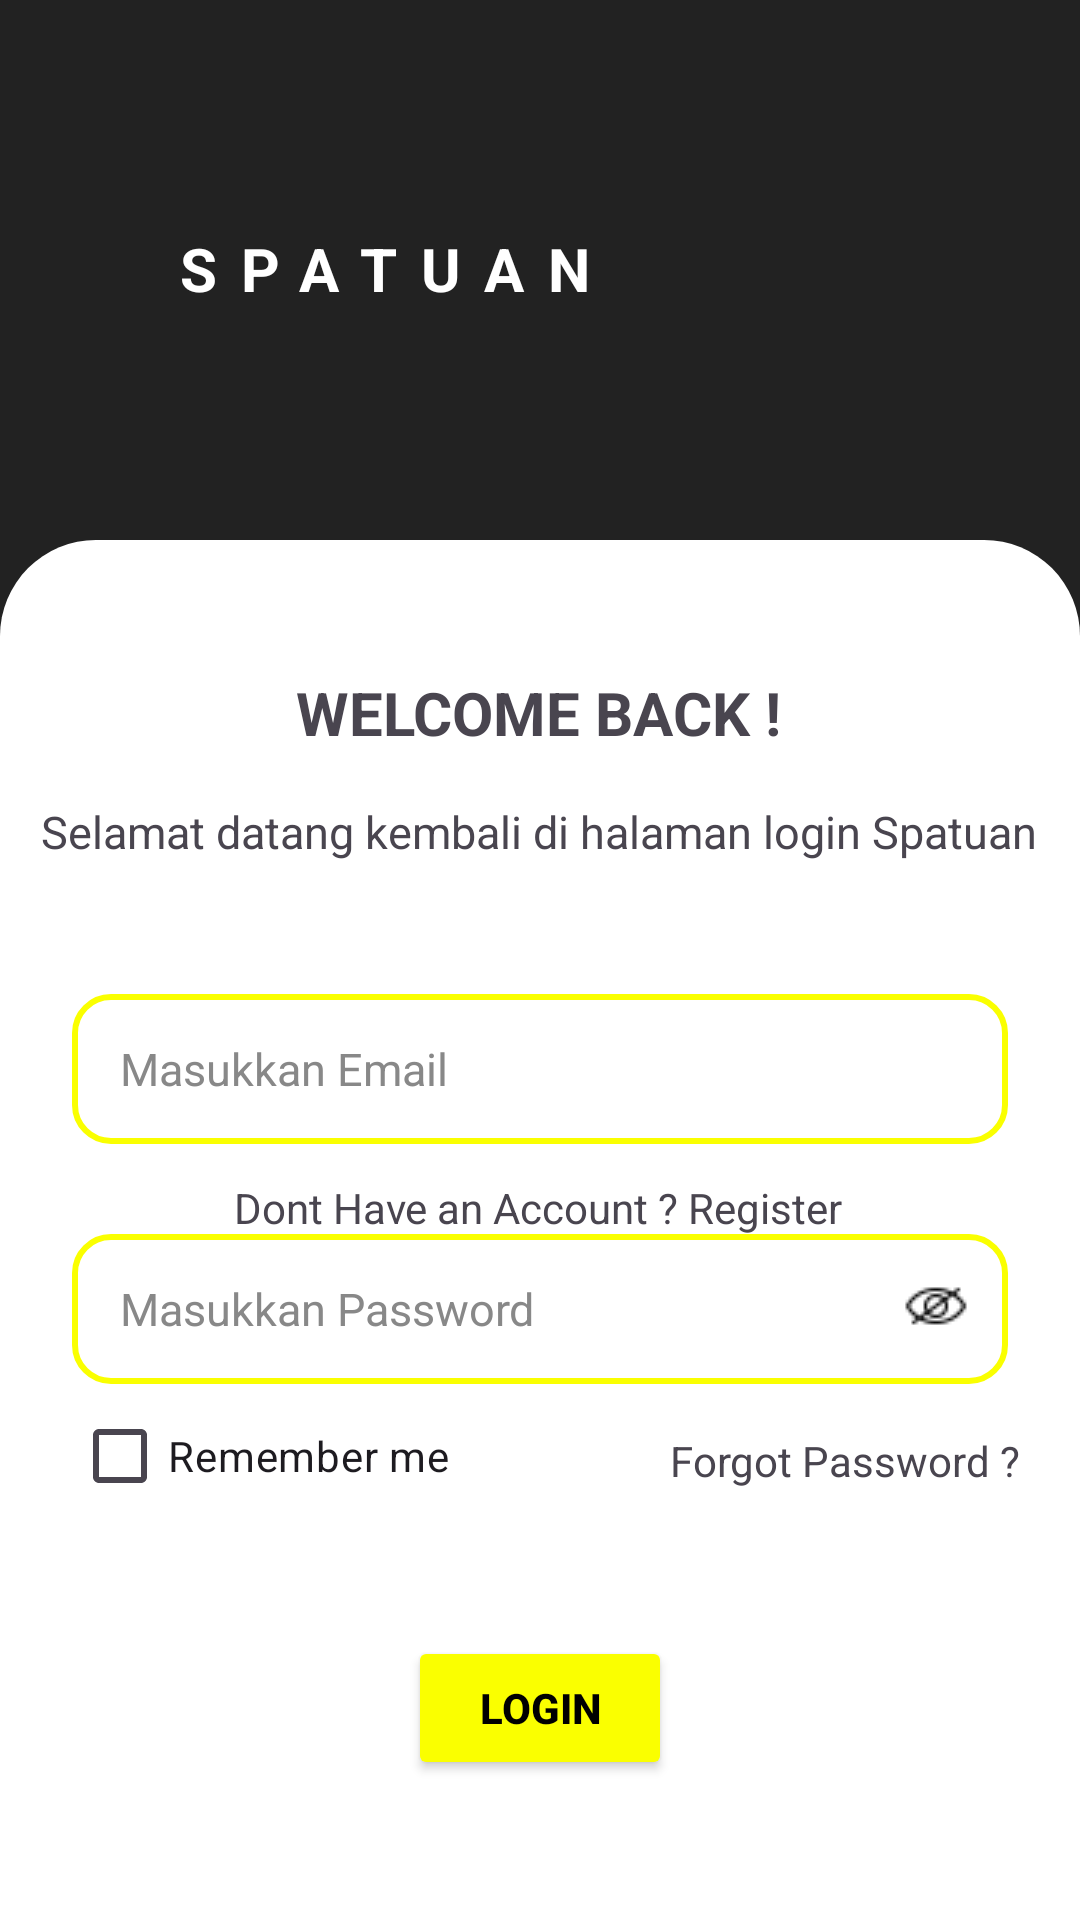

Icons on this 1080x1920 Android screen, each with its box as (x1, y1, x2, y2):
eye closed: (905, 1287, 967, 1325)
